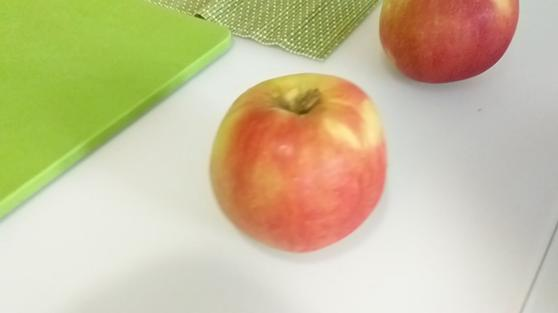apple: (211, 72, 387, 252), (377, 1, 519, 82)
